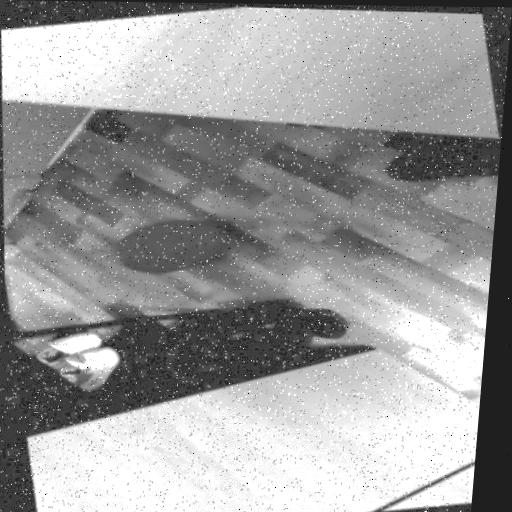balloon: (91, 212, 229, 281)
